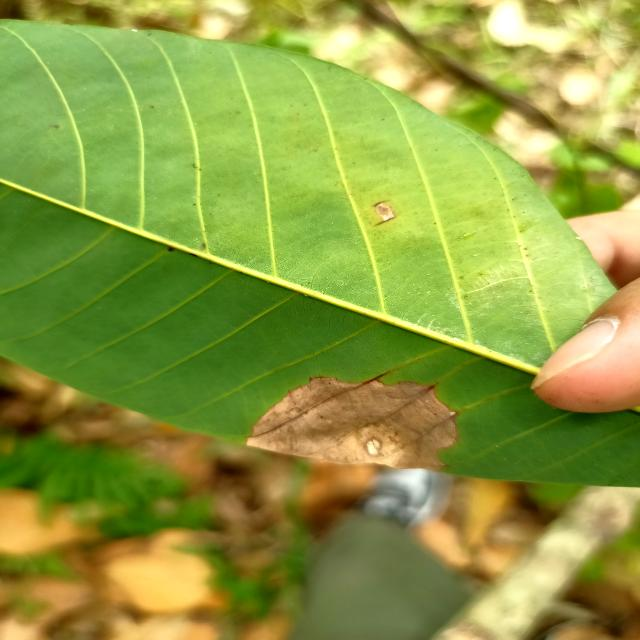Colletotrichum: (364, 436, 383, 456)
Leaf-Blight: (245, 375, 458, 470)
